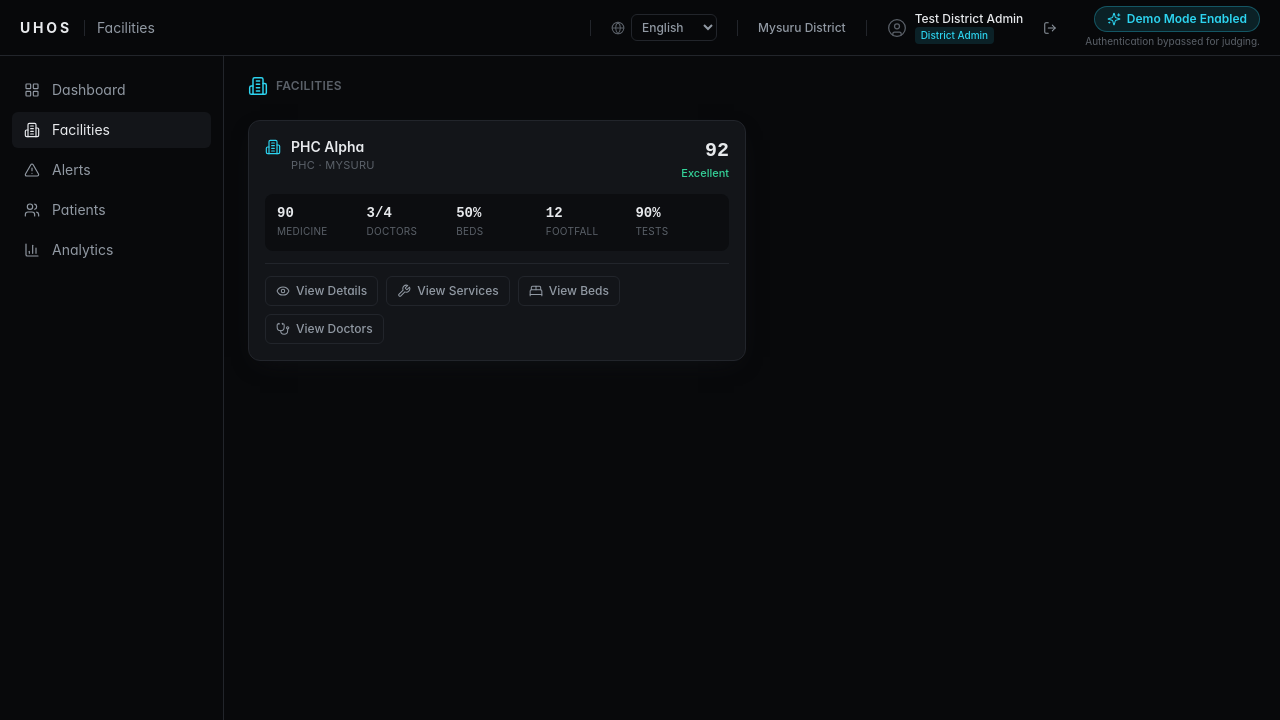
Test: Facilities page › opens the Services tab and shows facility services
The image size is (1280, 720).
expect the text "PHC Alpha" is shown: met, box [291,137,375,157]
Step 1. Click the button "View Services" → (448, 290), box [386,276,510,306]
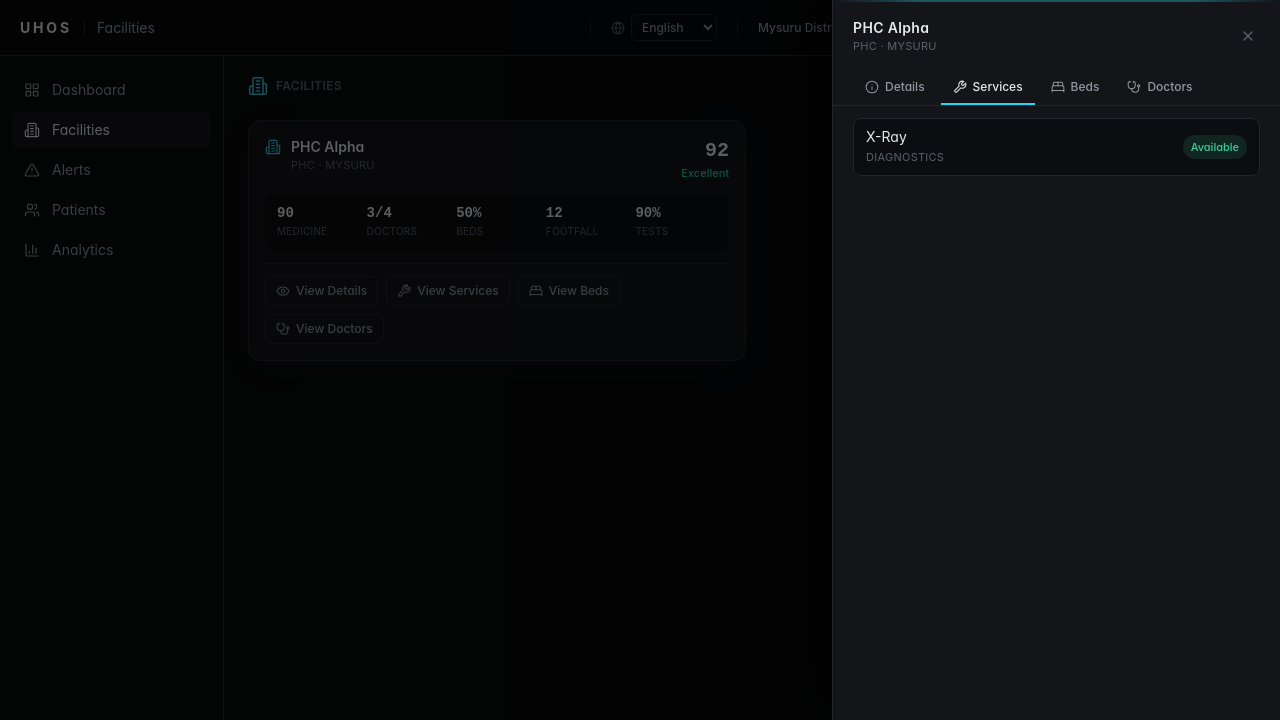
expect the text "X-Ray" is shown: met, box [866,128,907,144]
